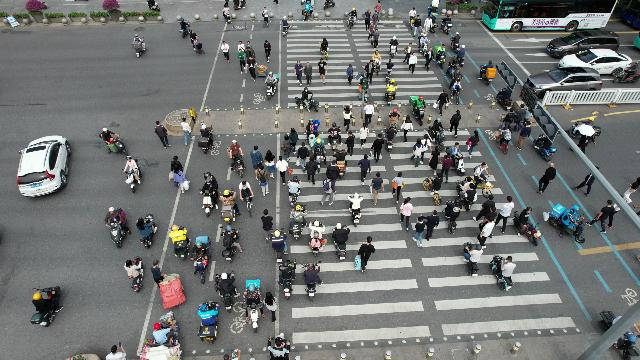non-motor-vehicle: (140, 312, 181, 360), (549, 204, 585, 243), (30, 286, 62, 326), (242, 280, 265, 332), (105, 207, 131, 248), (215, 272, 240, 312), (514, 210, 542, 245), (198, 301, 219, 344), (221, 225, 242, 262), (136, 214, 158, 249), (490, 255, 511, 290), (99, 128, 126, 154), (124, 256, 144, 291), (304, 262, 322, 300), (332, 222, 350, 260), (122, 155, 140, 192), (289, 205, 308, 240), (279, 260, 296, 299), (444, 198, 462, 234), (446, 142, 465, 176), (228, 140, 244, 178), (464, 243, 482, 276), (309, 220, 325, 256), (268, 334, 290, 360), (456, 176, 472, 211), (201, 179, 216, 216), (422, 176, 441, 205), (219, 190, 236, 222), (239, 180, 254, 215), (495, 123, 511, 154), (271, 229, 286, 261), (198, 124, 214, 154), (410, 95, 425, 126), (568, 120, 591, 139), (479, 60, 496, 85), (265, 71, 278, 100), (496, 88, 511, 110), (474, 180, 491, 198), (132, 34, 145, 57), (450, 80, 462, 104), (384, 79, 396, 102), (301, 0, 314, 20), (451, 65, 462, 86), (446, 56, 458, 75), (389, 35, 399, 57), (372, 50, 381, 74), (440, 16, 452, 34), (348, 8, 358, 29), (456, 45, 466, 66), (590, 125, 601, 144), (386, 57, 394, 82), (180, 19, 190, 39), (320, 38, 329, 59), (281, 16, 290, 36), (450, 32, 460, 50), (430, 12, 438, 34), (222, 5, 231, 24), (148, 0, 160, 11), (428, 5, 438, 18), (409, 8, 416, 25), (324, 0, 335, 9)
person: (589, 199, 615, 234), (495, 196, 515, 234), (536, 162, 556, 194), (472, 195, 495, 220), (478, 216, 495, 248), (422, 210, 440, 240), (572, 174, 595, 196), (255, 164, 270, 196), (326, 160, 340, 194), (320, 174, 335, 205), (370, 172, 384, 205), (624, 176, 640, 204), (479, 207, 498, 230), (155, 120, 170, 149), (412, 215, 426, 246), (264, 291, 278, 322), (358, 236, 375, 261), (305, 156, 319, 186), (250, 145, 264, 174), (275, 156, 289, 185), (400, 198, 412, 231), (392, 171, 404, 204), (371, 134, 384, 164), (359, 154, 371, 185), (518, 121, 531, 149), (150, 260, 164, 286), (106, 342, 126, 360), (261, 209, 272, 241), (401, 115, 414, 142), (468, 130, 480, 159), (298, 142, 310, 171), (436, 89, 449, 115), (264, 150, 276, 178), (514, 104, 526, 131), (429, 146, 440, 175), (411, 139, 422, 168), (421, 134, 432, 162), (450, 110, 461, 138), (359, 122, 370, 149), (181, 118, 192, 145), (318, 57, 328, 84), (364, 101, 375, 125), (342, 106, 352, 132), (246, 55, 256, 81), (281, 134, 291, 160), (289, 128, 299, 154), (504, 109, 516, 128), (346, 131, 355, 155), (294, 60, 302, 86), (409, 51, 418, 74), (238, 49, 246, 74), (425, 48, 434, 70), (221, 40, 230, 62), (304, 61, 312, 85), (404, 42, 412, 64), (372, 28, 380, 50), (346, 64, 354, 85), (261, 6, 269, 26), (264, 40, 271, 62), (424, 15, 432, 34), (371, 9, 379, 28), (414, 15, 421, 36), (364, 9, 371, 30), (190, 30, 198, 48), (246, 46, 256, 60), (368, 22, 374, 40), (374, 0, 381, 12), (238, 41, 245, 52)
